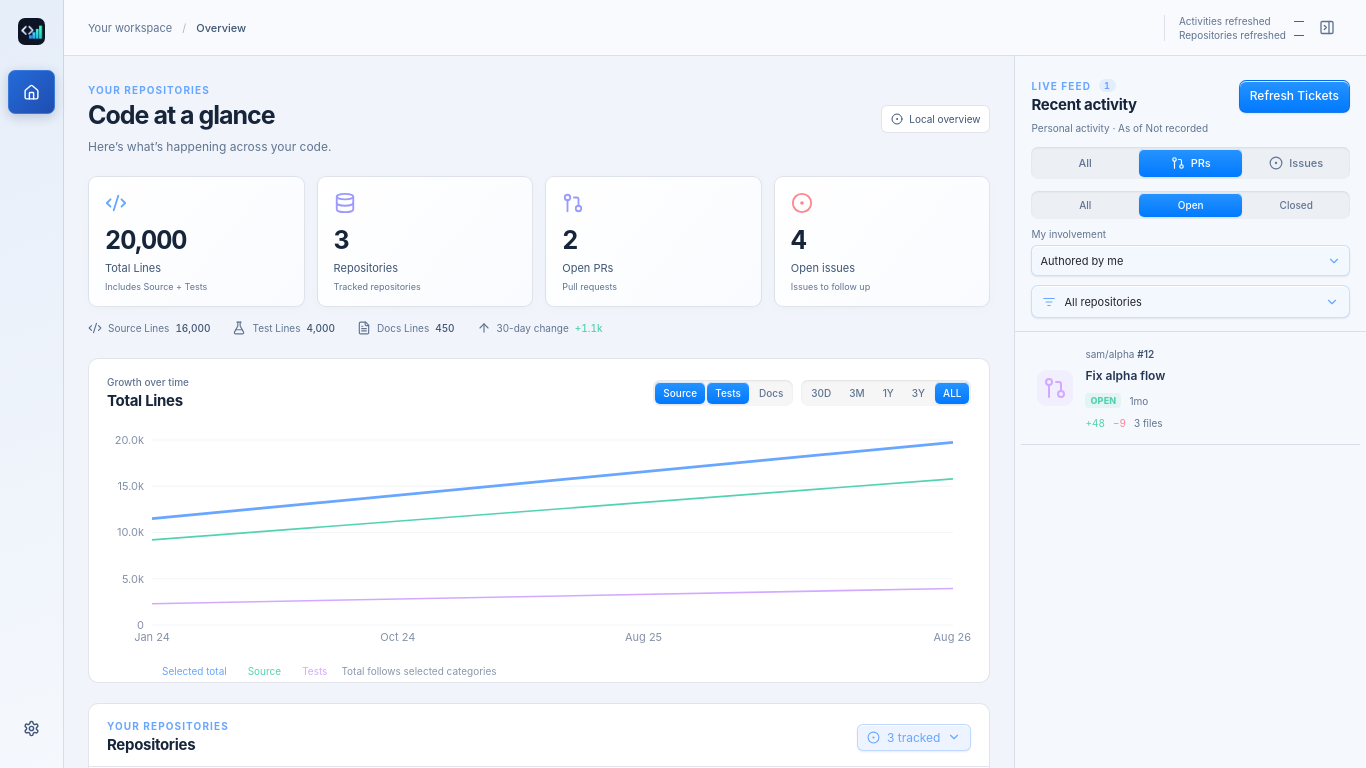
Scenario: dashboard UI › keeps the table picker local and shows collapsed personal and named organization groups
Expected: the heading "Code at a glance" is shown, x1=88 y1=100 x2=275 y2=130
What coordinates should you click on to do the following:
click the button "3 tracked"
I would click on:
 (914, 737)
Its box is x1=857 y1=724 x2=972 y2=751.
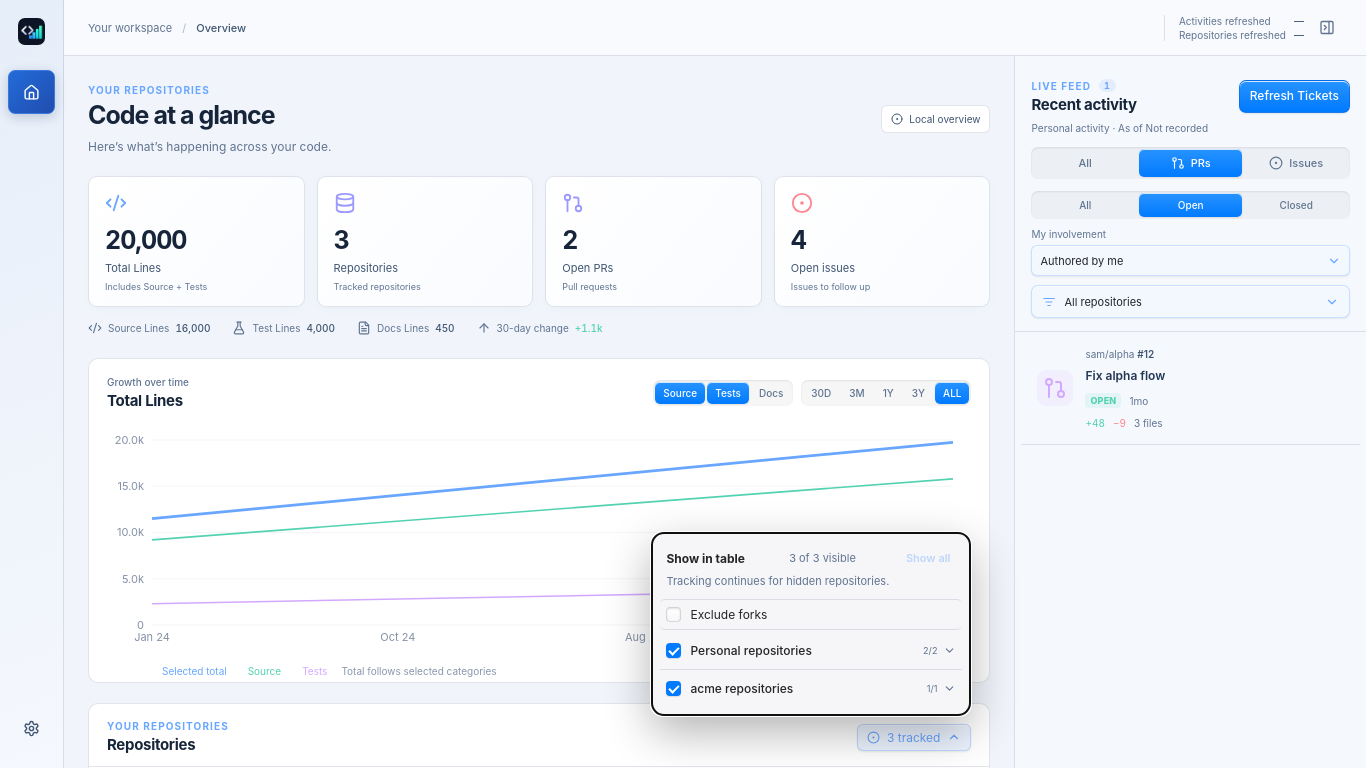
Expected: the text "3 of 3 visible" is shown, x1=789 y1=551 x2=856 y2=565
Expected: the button named "Expand Personal repositories" is shown
Expected: the button named "Expand acme repositories" is shown, x1=920 y1=675 x2=956 y2=702
What coordinates should you click on to do the following:
click the button named "Expand Personal repositories"
I would click on:
 (936, 650)
Its box is x1=916 y1=637 x2=956 y2=664.
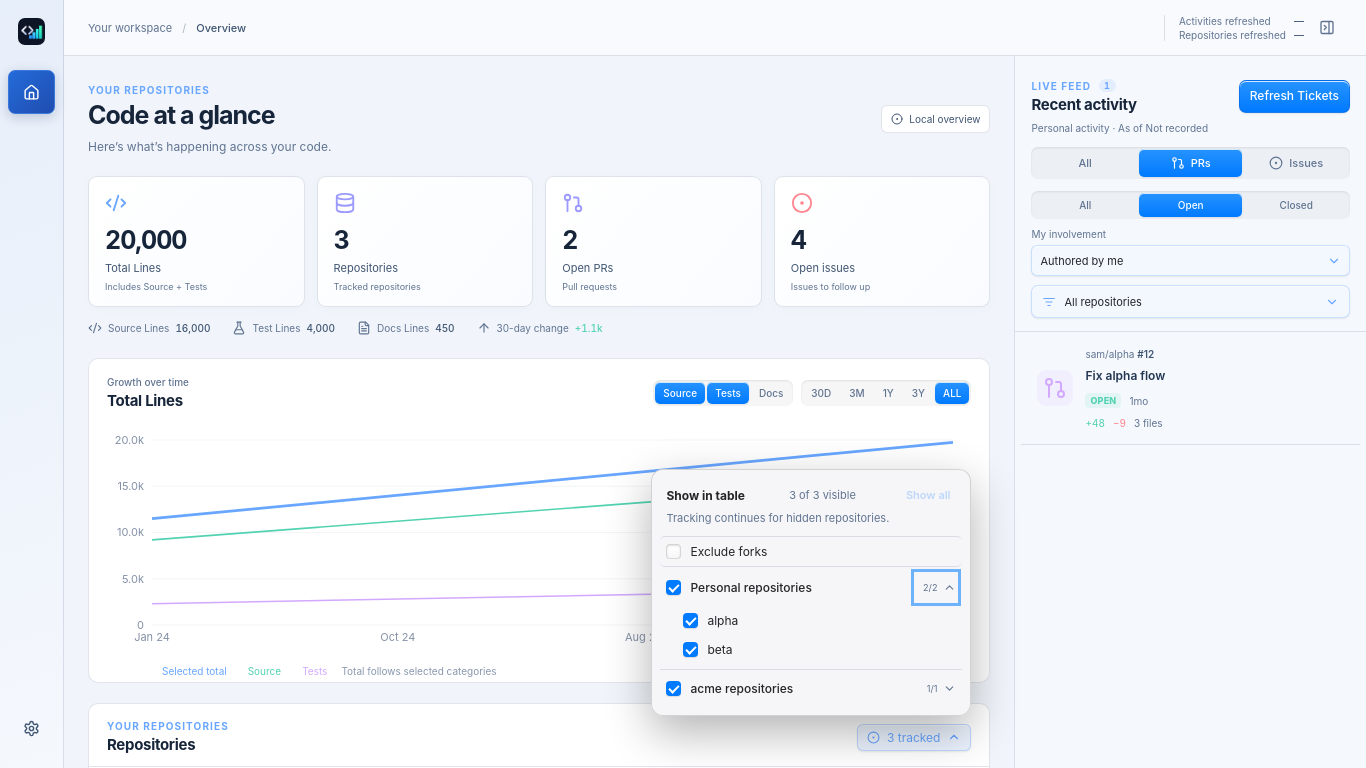
Expected: the checkbox named "Show sam/alpha in table" is checked
What coordinates should you click on to do the following:
click the checkbox named "Show sam/alpha in table"
I would click on:
 (691, 620)
Its box is x1=684 y1=613 x2=698 y2=628.
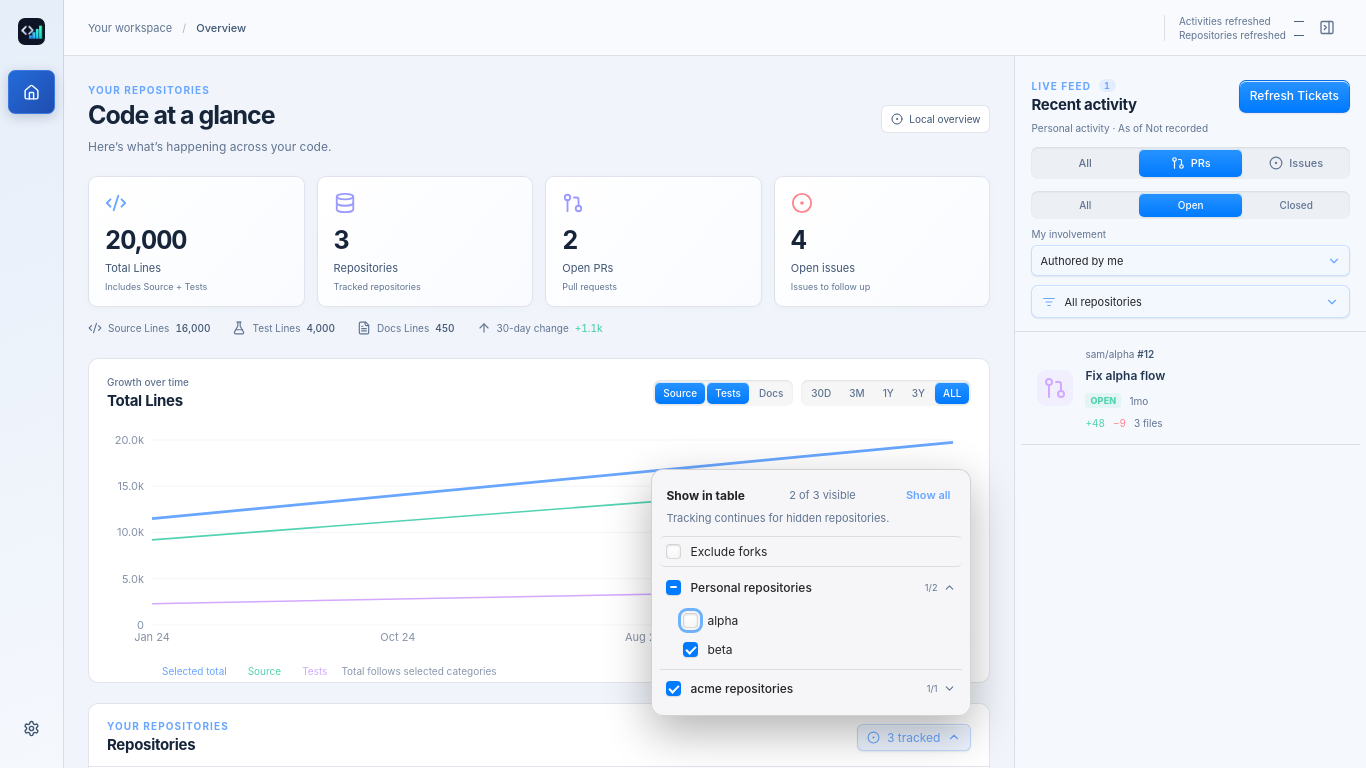
Expected: the button "3 tracked" is shown, x1=857 y1=724 x2=972 y2=751
Expected: the text "2 of 3 visible" is shown, x1=789 y1=488 x2=856 y2=502
